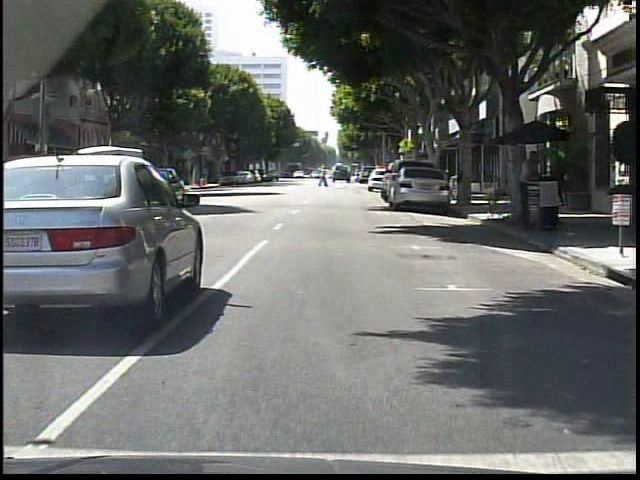person: (516, 149, 547, 228), (318, 168, 328, 188)
